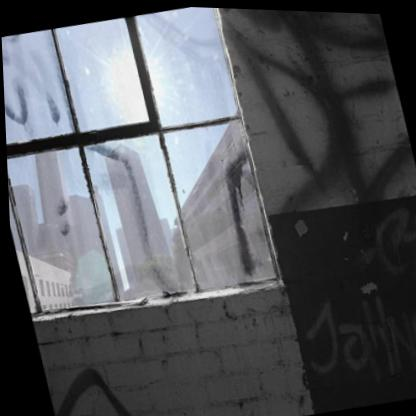Window: (0, 0, 283, 333)
